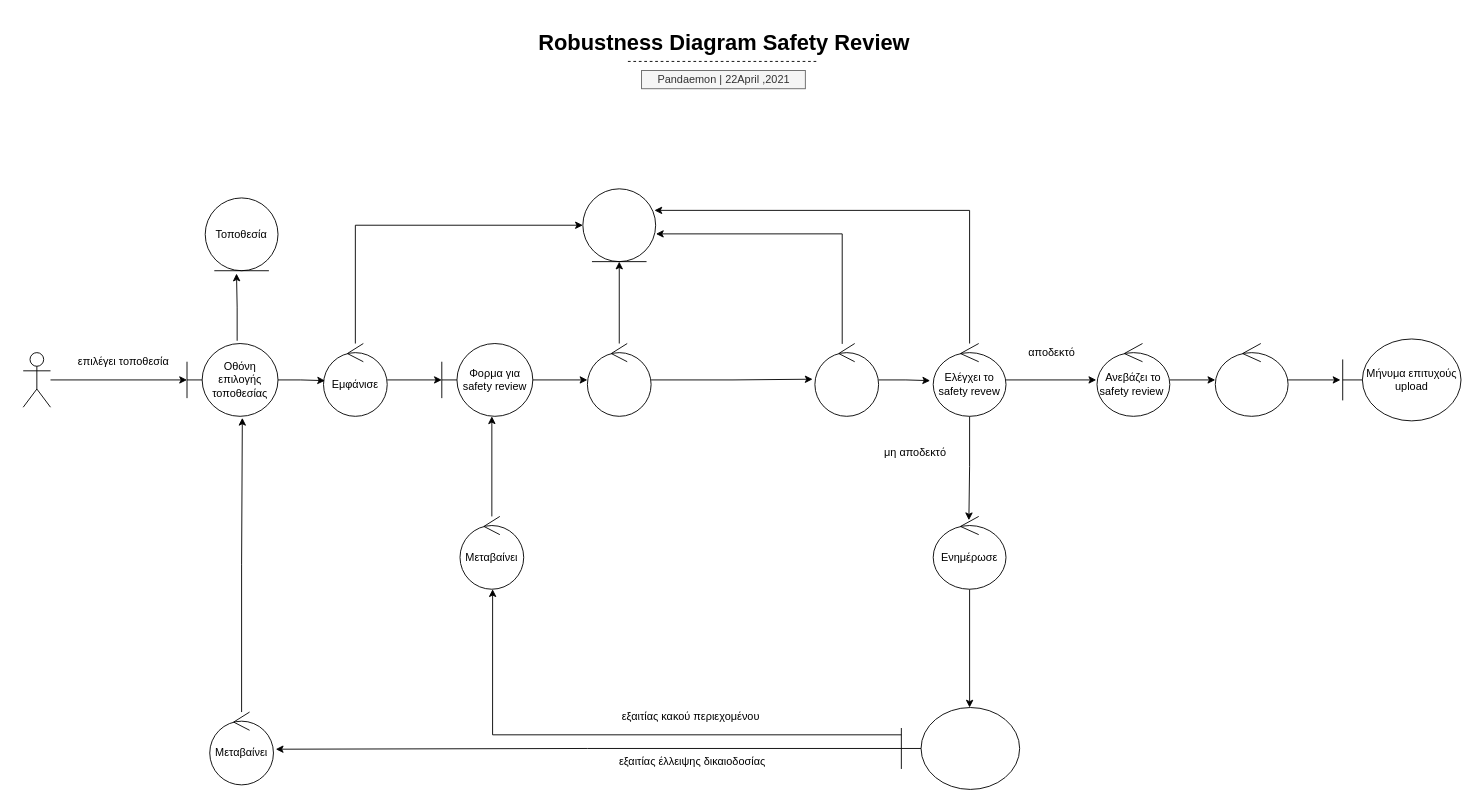
The diagram is 1477 pixels wide and 805 high, and some of its shapes have lost their labels. The shapes that lost their labels are listed below. From the top down, each one's box as (x1, y1, x2, y2) in pixels, then its label:
(582, 188, 656, 262): Safety review
(22, 352, 51, 407): Χρήστης
(586, 343, 651, 416): Γράφει safety review
(814, 343, 879, 416): Υποβολή safety revew
(1214, 343, 1288, 416): Εμφανίζει το safety review
(900, 707, 1020, 789): Μήνυμα που αναφέρει τους λόγους που δεν έγινε δεκτό το review
